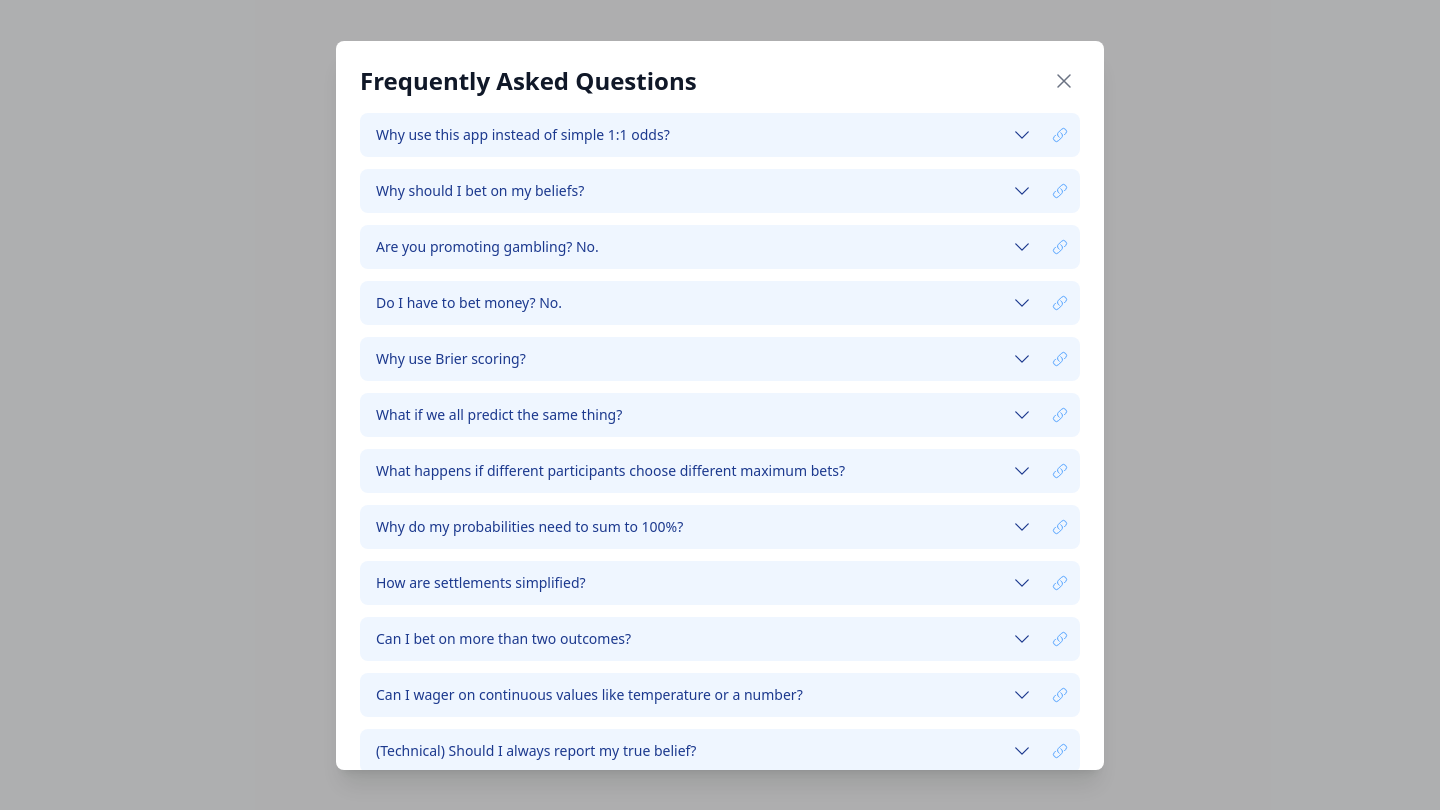
Scenario: HelpModal › expands disclosure content when clicked
Check: the text "proper scoring rule" is not shown
Click the button "Why use Brier scoring?": [451, 358] box 360,336 -> 1048,380
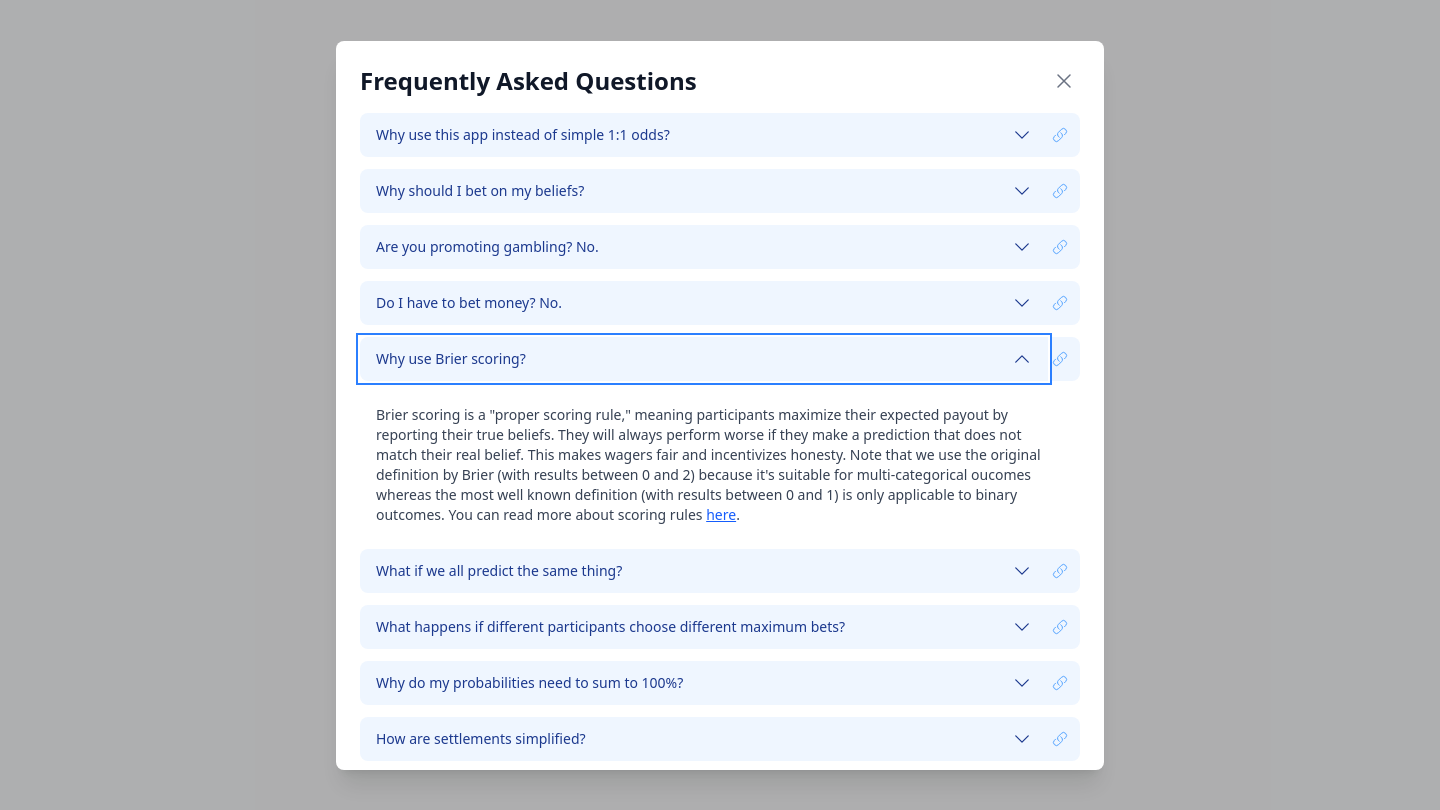
Check: the text "proper scoring rule" is shown, box 376,404 -> 1041,524
